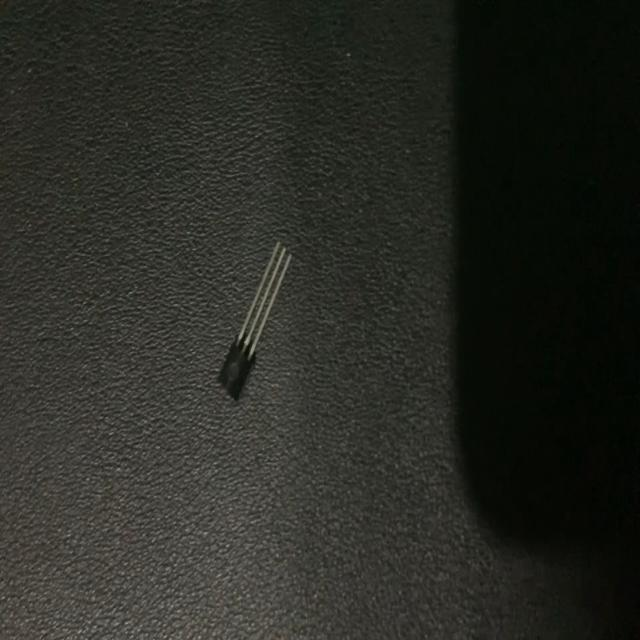BJT: (218, 244, 292, 406)
